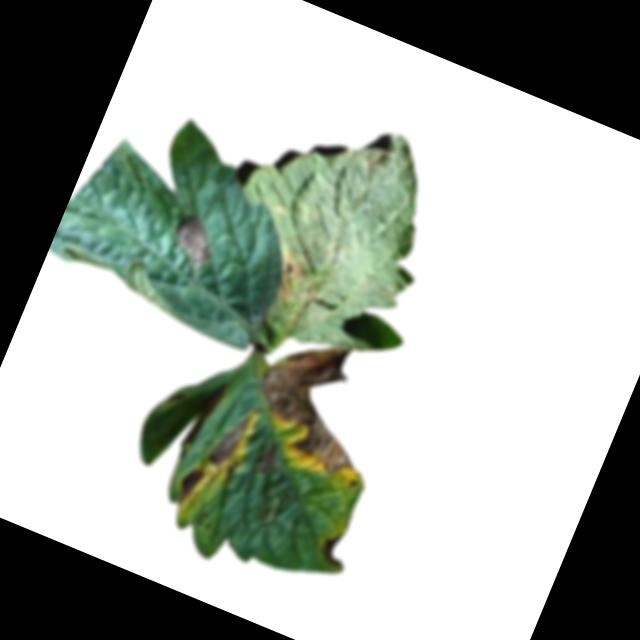Early_blight: (242, 324, 393, 484), (162, 208, 221, 268), (202, 407, 252, 476), (265, 255, 308, 306), (312, 526, 355, 573), (171, 459, 208, 508), (246, 438, 283, 479)
